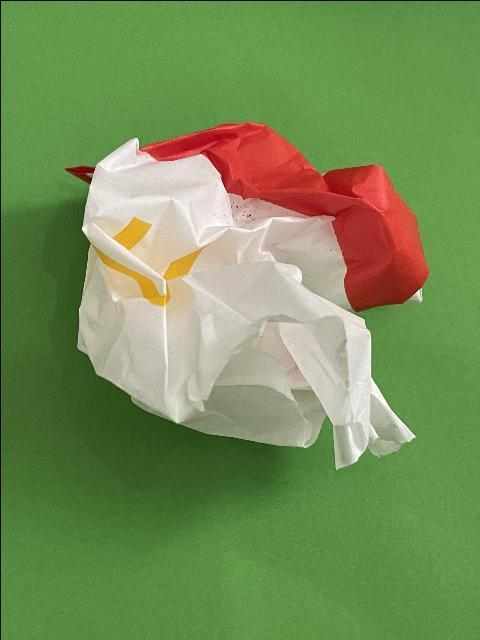paperbag: (61, 119, 428, 472)
